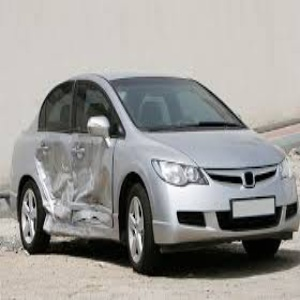door: (43, 148, 117, 232)
